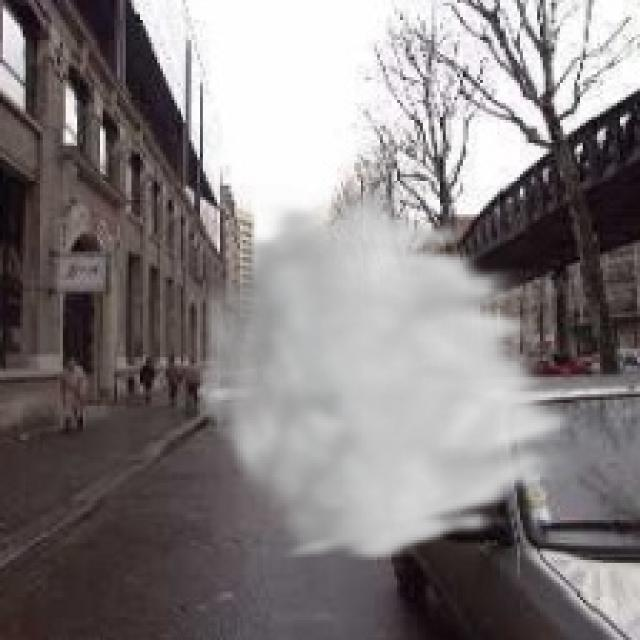smoke: (188, 183, 588, 566)
